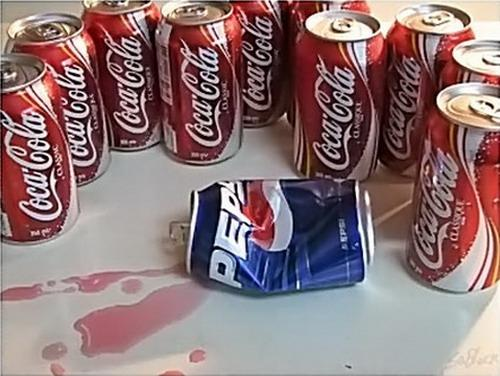pepsi: (237, 177, 299, 250)
